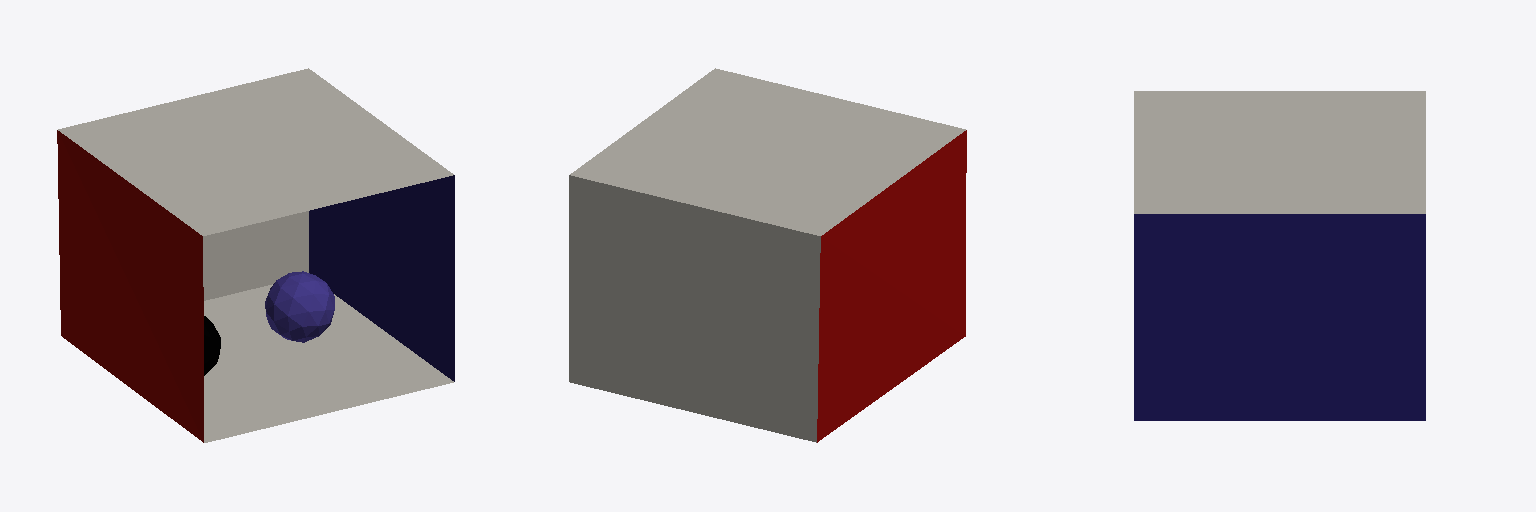
The model's file is CornellBox-Sphere-1337.obj.
3 renders of one model, left to right at view 1: azimuth 30°, elevation 25°; view 2: azimuth 150°, elevation 25°; view 3: azimuth 270°, elevation 25°, orthographic.
Parts seen in each view (by area): view 1: ceiling, leftWall, floor, rightWall, backWall, leftSphere, rightSphere; view 2: backWall, ceiling, leftWall; view 3: rightWall, ceiling.
Boxes of the visible parts, <box> form: ceiling: <box>58,68,453,235</box>; leftWall: <box>57,130,203,442</box>; floor: <box>204,284,453,442</box>; rightWall: <box>309,175,454,381</box>; backWall: <box>203,211,308,300</box>; leftSphere: <box>265,271,334,342</box>; rightSphere: <box>204,316,220,375</box>; backWall: <box>569,175,820,442</box>; ceiling: <box>570,68,965,235</box>; leftWall: <box>817,130,966,442</box>; rightWall: <box>1134,214,1425,420</box>; ceiling: <box>1134,91,1425,213</box>.
Size of the model in its own units: 2.02 by 1.59 by 2.03.